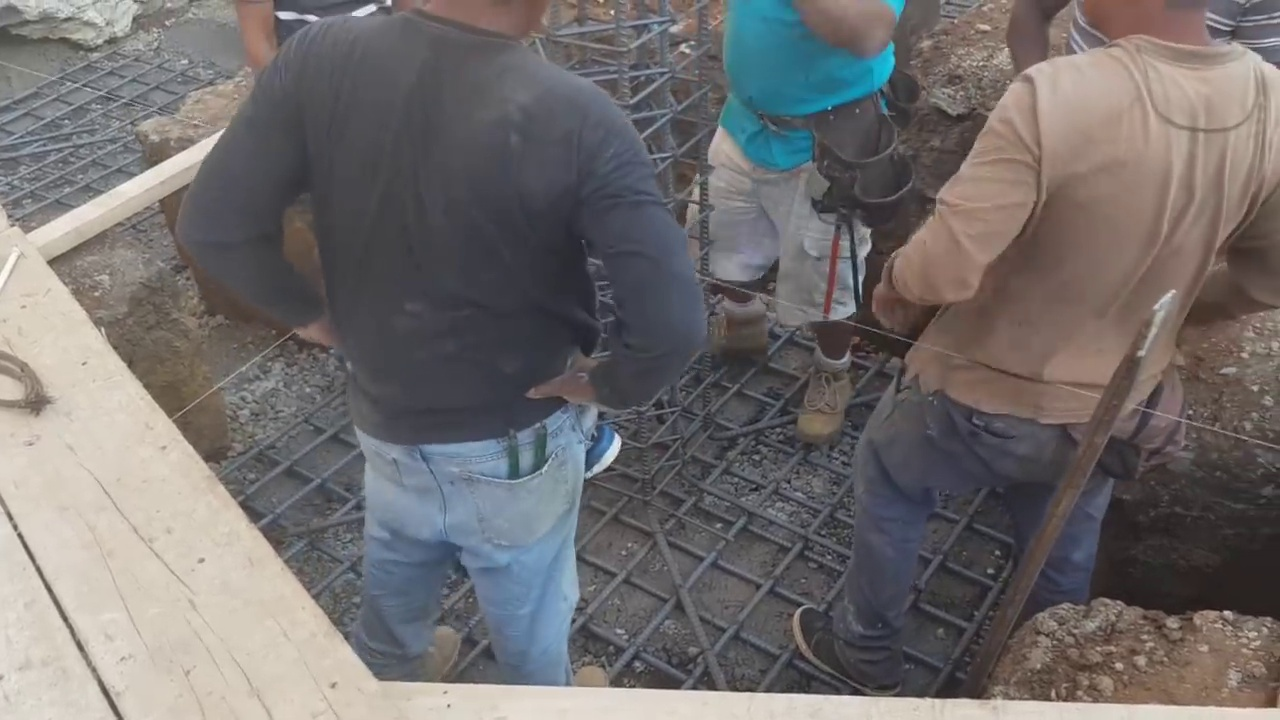person: (176, 11, 686, 674), (794, 2, 1279, 684), (696, 5, 933, 396)
